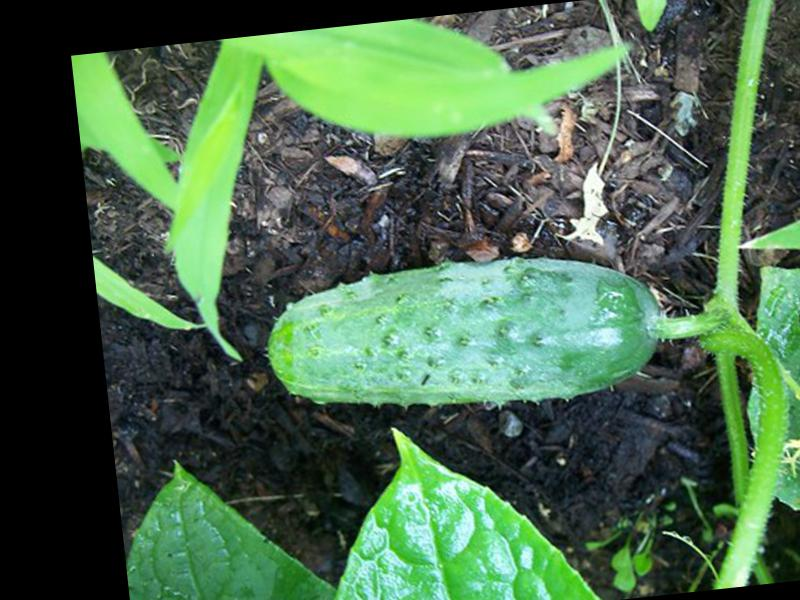Cucumber: (256, 240, 667, 429)
